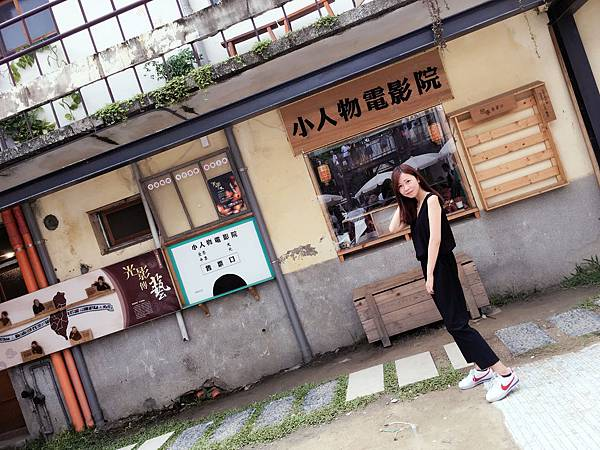people: (390, 165, 519, 401)
